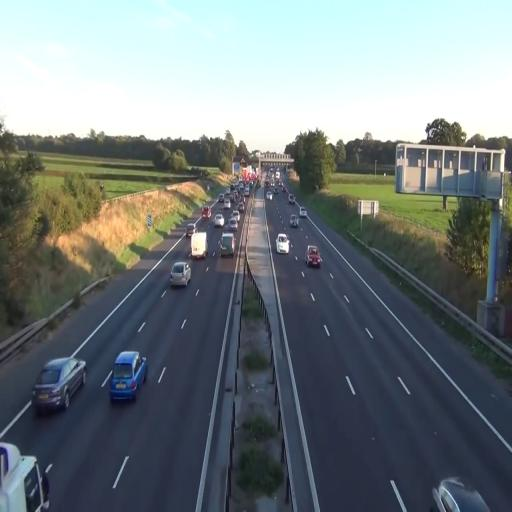vehicle: (0, 440, 51, 512), (32, 355, 87, 415), (110, 350, 148, 401), (170, 260, 191, 288), (190, 229, 207, 260), (305, 244, 322, 267), (220, 232, 235, 256), (276, 234, 290, 254), (212, 213, 226, 229), (299, 208, 308, 219)
